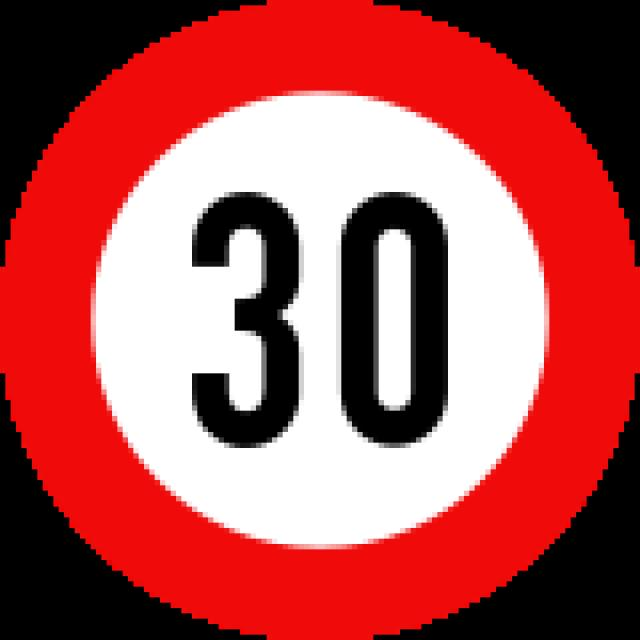Speed Limit -30-: (157, 171, 468, 463)
